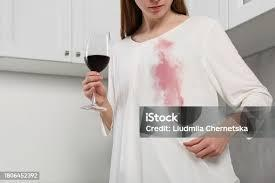oil: (153, 55, 188, 103), (153, 38, 175, 59)
